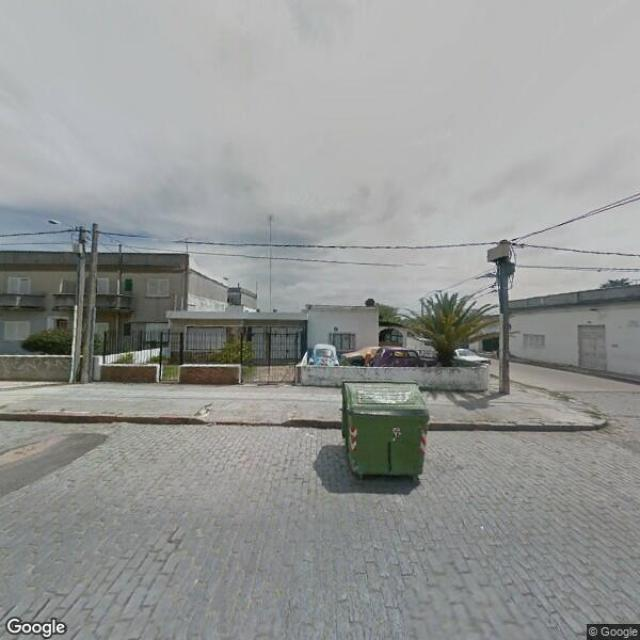garbage container: (333, 374, 443, 502)
